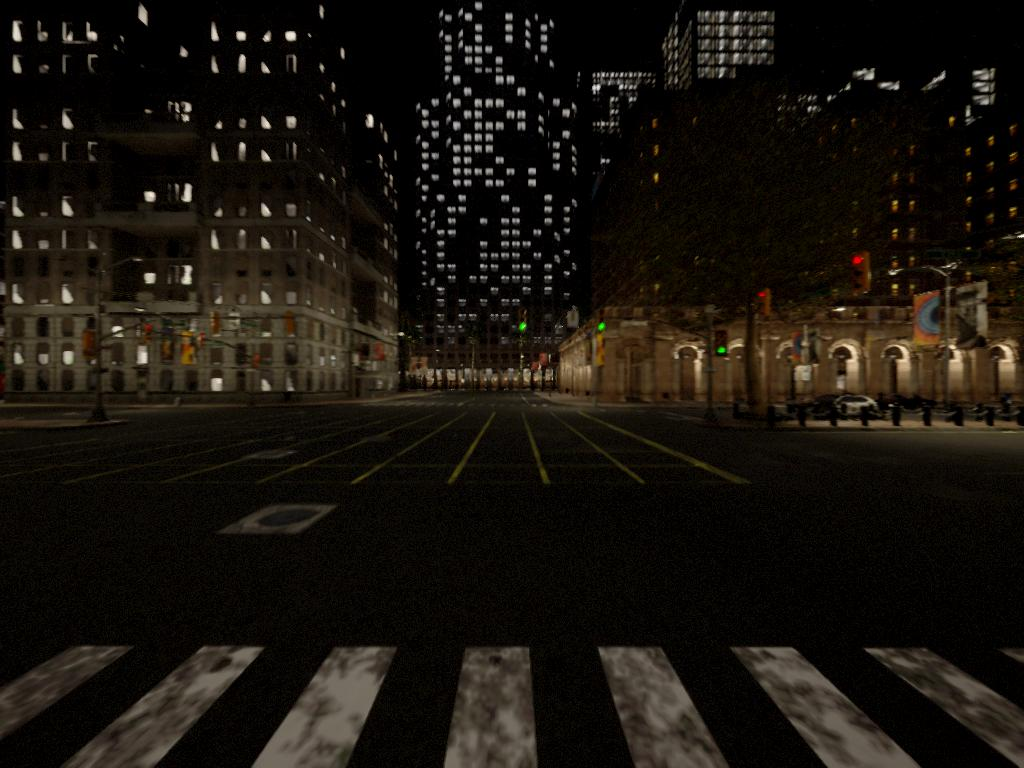traffic_light: (851, 253, 874, 293), (716, 331, 730, 357), (759, 291, 771, 320), (519, 309, 529, 333), (286, 312, 296, 336), (599, 310, 608, 334), (211, 316, 222, 333), (144, 324, 152, 342), (199, 334, 207, 349), (254, 354, 260, 370)
